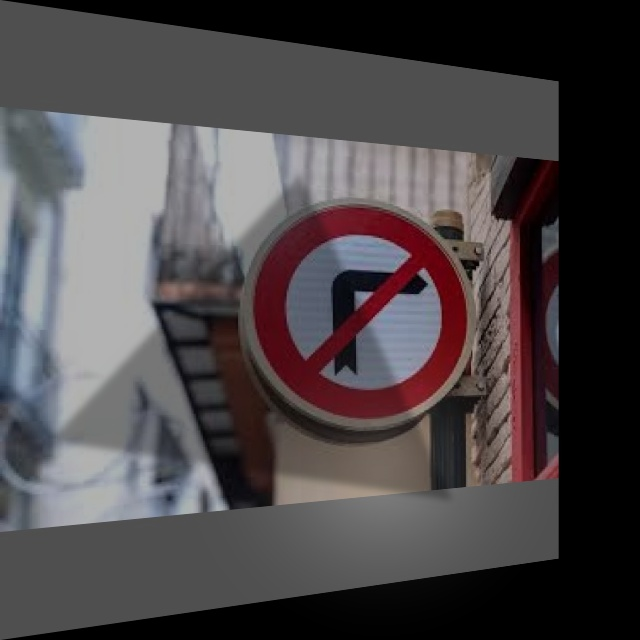Right_Turn_Prohibited: (245, 192, 470, 448)
